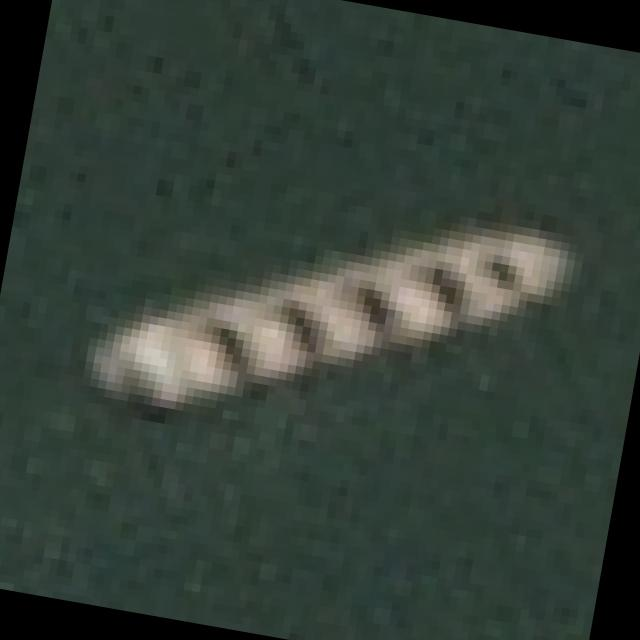ship: (69, 107, 604, 503)
